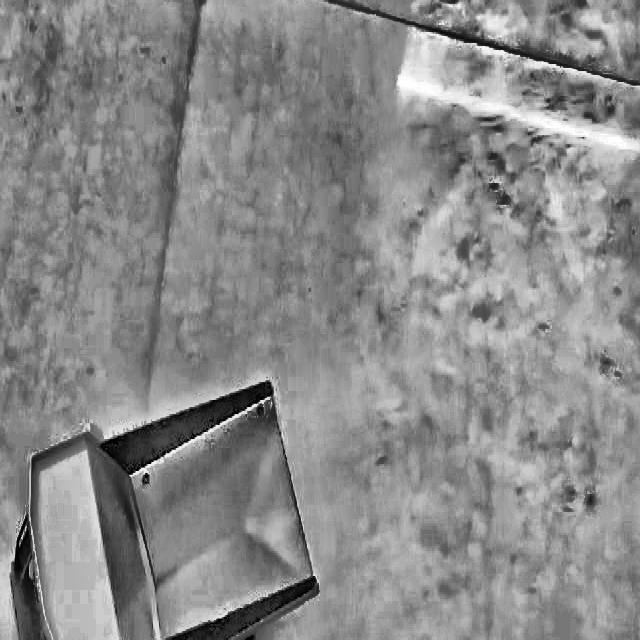dump_truck: (0, 375, 315, 640)
